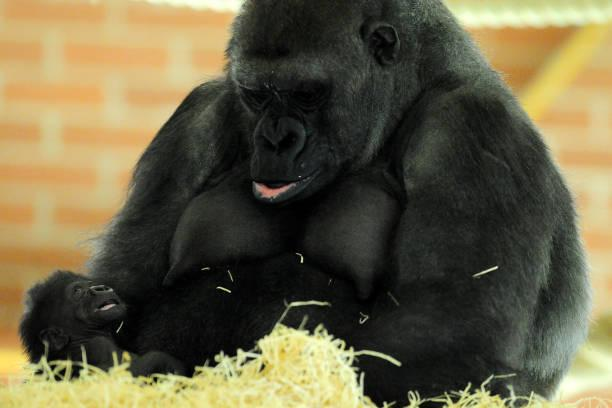gorille_Autres: (59, 2, 594, 284), (22, 259, 143, 370)
